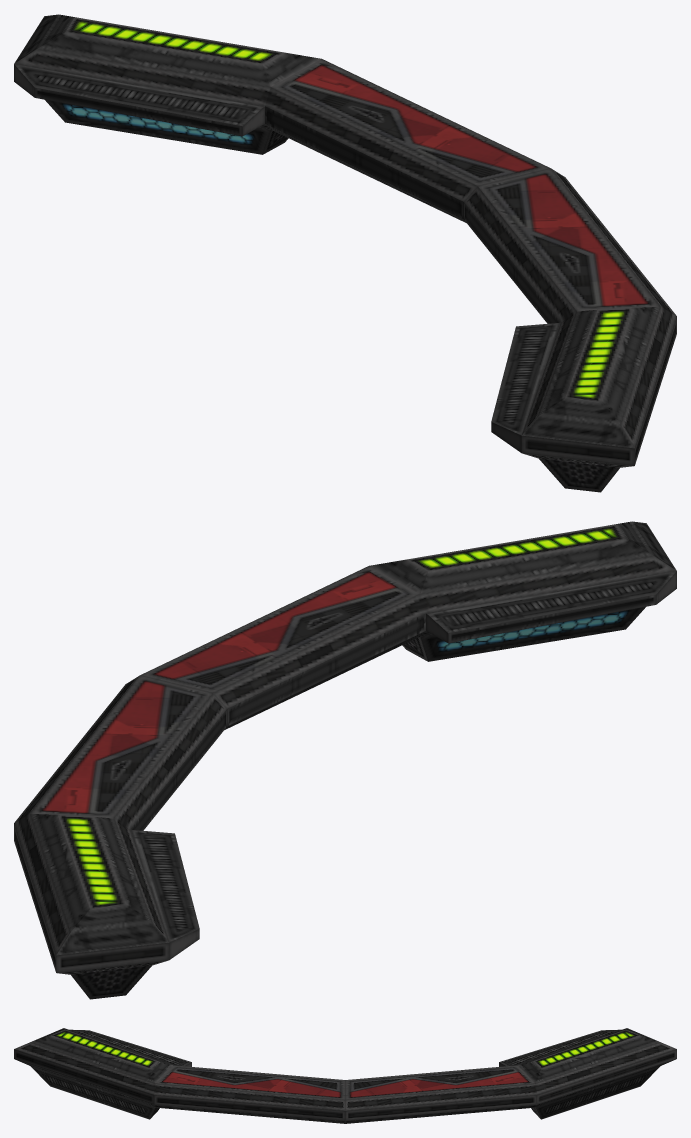
File: BFP_SB_HullExtension01.FBX
The picture shows the model from 3 angles, top to bottom: view 1: azimuth 30°, elevation 25°; view 2: azimuth 150°, elevation 25°; view 3: azimuth 270°, elevation 25°; orthographic projection. The views are drawn at different scales.
Visible parts, largest first — view 1: BFP_SB_HullExtension01; view 2: BFP_SB_HullExtension01; view 3: BFP_SB_HullExtension01.
Boxes of the visible parts, x1,y1,x2,y2 form: BFP_SB_HullExtension01: (14, 14, 676, 492); BFP_SB_HullExtension01: (14, 521, 676, 999); BFP_SB_HullExtension01: (14, 1028, 676, 1123).
Size of the model in its own units: 843 by 240 by 2852.
1 material, 1 textured.
